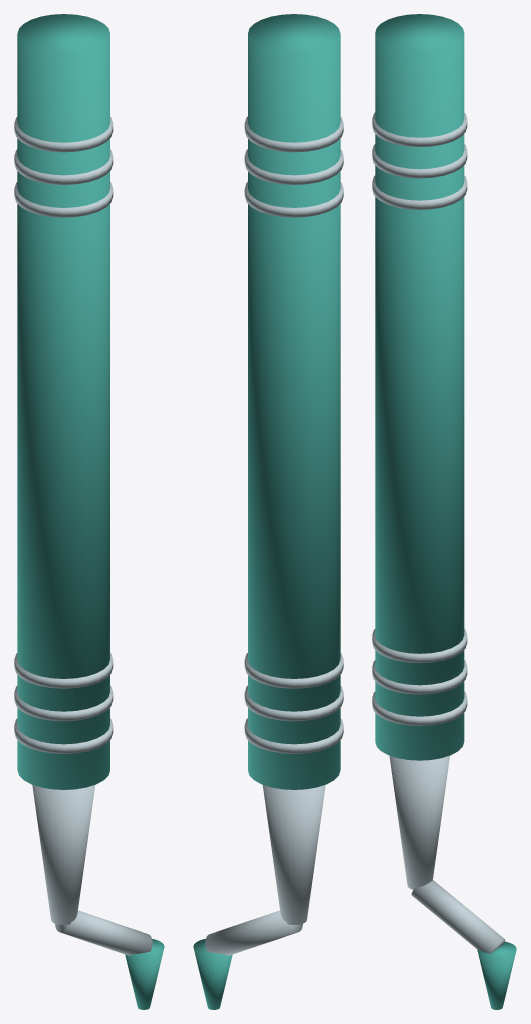
Rendered from composite.glb.
3 views of the same model, side by side, from view 1: azimuth 30°, elevation 25°; view 2: azimuth 150°, elevation 25°; view 3: azimuth 330°, elevation 25° (orthographic). The views are drawn at different scales.
Visible parts, largest first — view 1: Grip.003, Tapered neck.003, Angled tip.003, Composite applicator, Grip ring.020, Grip ring.019, Grip ring.023, Grip ring.021, Grip ring.018, Grip ring.022; view 2: Grip.003, Tapered neck.003, Angled tip.003, Composite applicator, Grip ring.020, Grip ring.019, Grip ring.023, Grip ring.021, Grip ring.018, Grip ring.022; view 3: Grip.003, Tapered neck.003, Angled tip.003, Composite applicator, Grip ring.021, Grip ring.018, Grip ring.023, Grip ring.020, Grip ring.022, Grip ring.019.
Boxes of the visible parts, box(x1,y1,x2,y2) form: Grip.003: box(17, 14, 109, 789); Tapered neck.003: box(32, 785, 95, 924); Angled tip.003: box(55, 910, 152, 955); Composite applicator: box(125, 939, 164, 1009); Grip ring.020: box(14, 653, 113, 688); Grip ring.019: box(14, 685, 113, 721); Grip ring.023: box(14, 116, 113, 152); Grip ring.021: box(14, 182, 113, 217); Grip ring.018: box(14, 718, 113, 753); Grip ring.022: box(14, 149, 113, 184); Grip.003: box(248, 14, 340, 789); Tapered neck.003: box(262, 785, 325, 924); Angled tip.003: box(205, 910, 302, 955); Composite applicator: box(193, 939, 232, 1009); Grip ring.020: box(244, 653, 343, 688); Grip ring.019: box(244, 685, 343, 721); Grip ring.023: box(244, 116, 343, 152); Grip ring.021: box(244, 182, 343, 217); Grip ring.018: box(244, 718, 343, 753); Grip ring.022: box(244, 149, 343, 184); Grip.003: box(375, 14, 464, 760); Tapered neck.003: box(389, 755, 449, 889); Angled tip.003: box(411, 880, 505, 953); Composite applicator: box(477, 941, 516, 1009); Grip ring.021: box(372, 175, 467, 209); Grip ring.018: box(372, 691, 467, 725); Grip ring.023: box(372, 112, 467, 146); Grip ring.020: box(372, 629, 467, 663); Grip ring.022: box(372, 144, 467, 178); Grip ring.019: box(372, 660, 467, 694).
Size of the model in its own units: 0.316 by 2.13 by 0.192.
